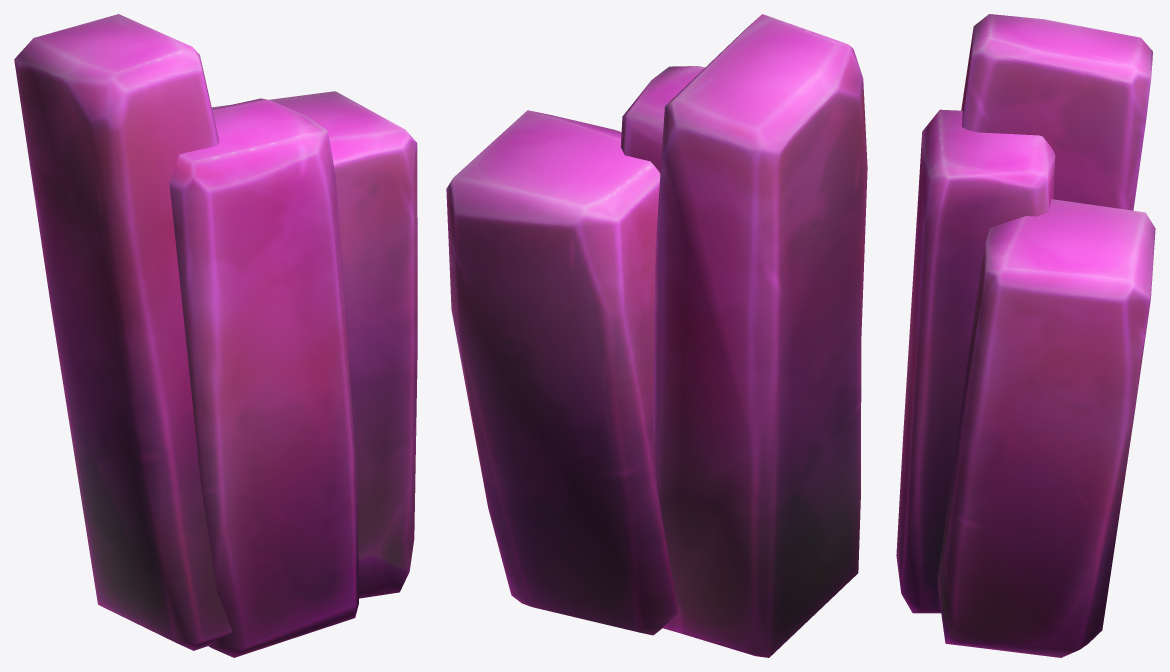
The model's file is SM_Gem_Kunzite_008.fbx.
3 views of the same model, side by side, from view 1: azimuth 30°, elevation 25°; view 2: azimuth 150°, elevation 25°; view 3: azimuth 270°, elevation 25° (orthographic). The views are drawn at different scales.
Parts seen in each view (by area): view 1: SM_Gem_Kunzite_008; view 2: SM_Gem_Kunzite_008; view 3: SM_Gem_Kunzite_008.
Part boxes in pixels (x1=…): SM_Gem_Kunzite_008: x1=14, y1=14, x2=417, y2=657; SM_Gem_Kunzite_008: x1=446, y1=14, x2=867, y2=657; SM_Gem_Kunzite_008: x1=896, y1=14, x2=1155, y2=657.
Size of the model in its own units: 33.21 by 56.25 by 24.68.
